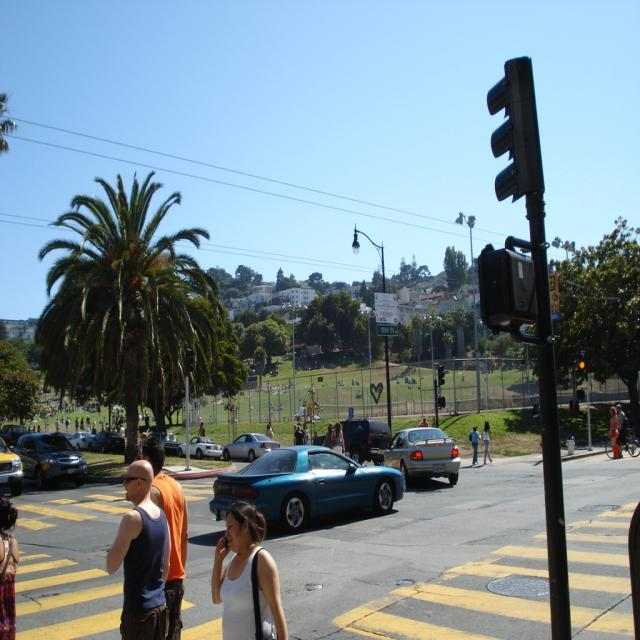off traffic light: (481, 60, 544, 198)
